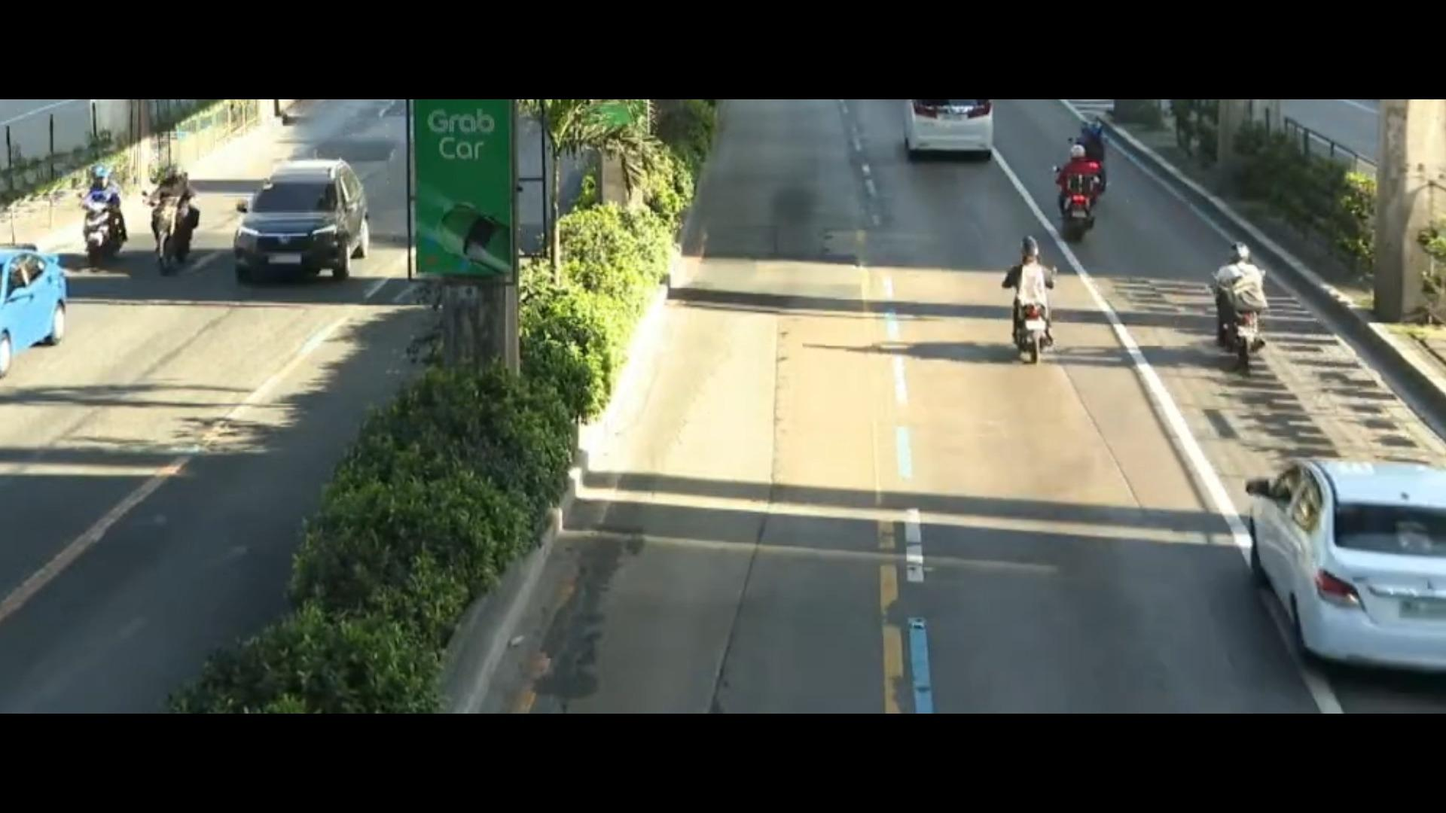Motorcycle: (1196, 237, 1308, 393), (985, 228, 1087, 395), (140, 160, 226, 298), (69, 147, 136, 267), (1055, 143, 1109, 247)
SUV: (1215, 428, 1446, 691), (242, 147, 379, 288)
Sedan: (0, 226, 87, 381)
